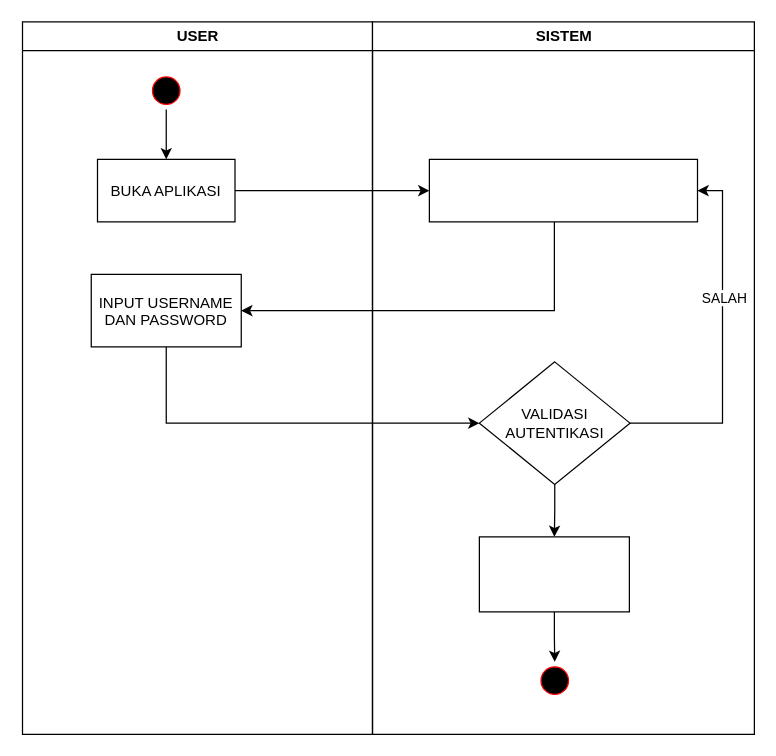
The diagram is 776 pixels wide and 756 high, and some of its shapes have lost their labels. Each missing label, with the centre of its shape:
"DASHBOARD HEALTHCAR MOBILEAPP" goes at (553,574).
"TAMPILKAN DASHBOARD LOGIN" goes at (563,190).
